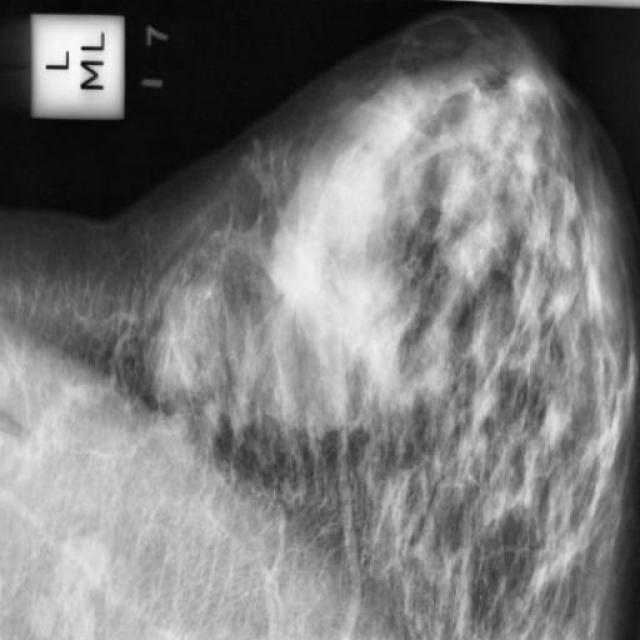cancer: (259, 255, 322, 343)
